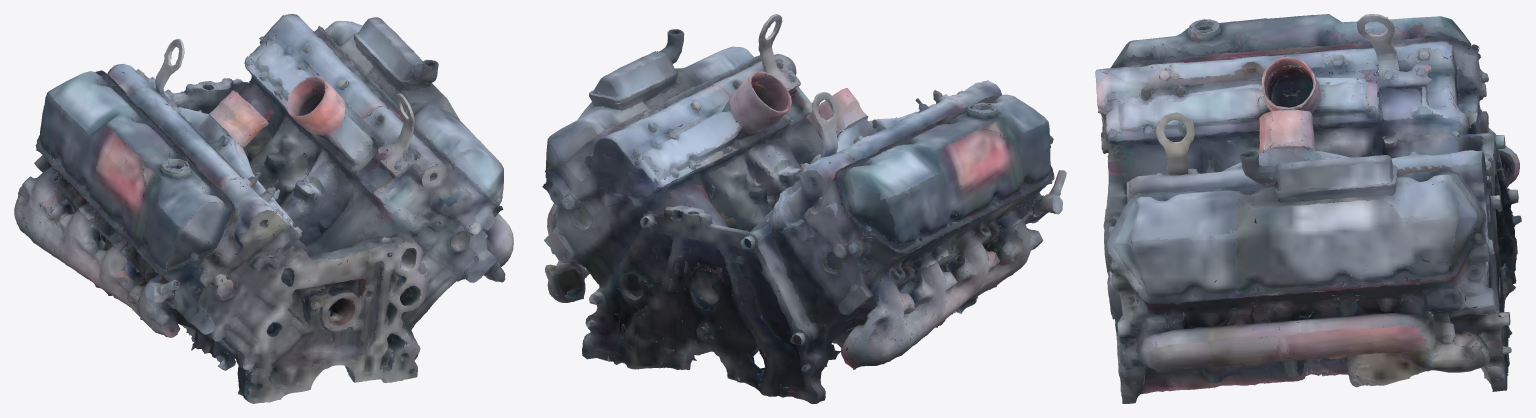
Rendered from eng-d-v8-66.glb.
3 views of the same model, side by side, from view 1: azimuth 30°, elevation 25°; view 2: azimuth 150°, elevation 25°; view 3: azimuth 270°, elevation 25° (orthographic). The views are drawn at different scales.
Parts seen in each view (by area): view 1: Object_4; view 2: Object_4; view 3: Object_4.
Boxes of the visible parts, bbox=[...] form: Object_4: bbox=[14, 14, 513, 403]; Object_4: bbox=[542, 14, 1066, 403]; Object_4: bbox=[1095, 14, 1521, 403].
Size of the model in its own units: 0.7639 by 0.5436 by 0.6537.
1 material, 1 textured.
